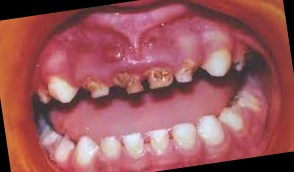Caries: (78, 74, 102, 96), (107, 71, 135, 88), (148, 68, 169, 84)
